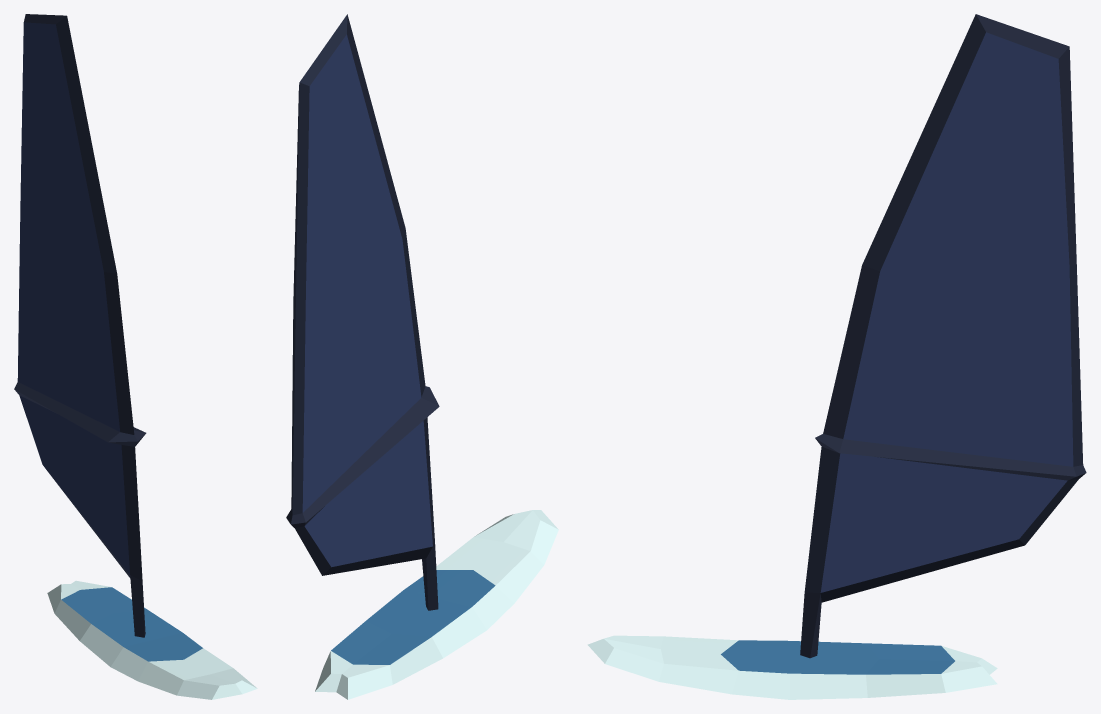
Rendered from windsurf.glb.
3 views of the same model, side by side, from view 1: azimuth 30°, elevation 25°; view 2: azimuth 150°, elevation 25°; view 3: azimuth 270°, elevation 25° (orthographic). The views are drawn at different scales.
Visible parts, largest first — view 1: windsurf-sail, windsurf-base; view 2: windsurf-sail, windsurf-base; view 3: windsurf-sail, windsurf-base.
Part boxes in pixels (box(x1,y1,x2,y2)): windsurf-sail: box(14, 14, 146, 637); windsurf-base: box(47, 580, 257, 699); windsurf-sail: box(286, 14, 439, 610); windsurf-base: box(315, 510, 558, 699); windsurf-sail: box(800, 14, 1086, 658); windsurf-base: box(587, 635, 997, 699).
Bounding box in the file's own units: 0.64 × 4.18 × 2.85.
Materials: 1 (1 with a texture image).
